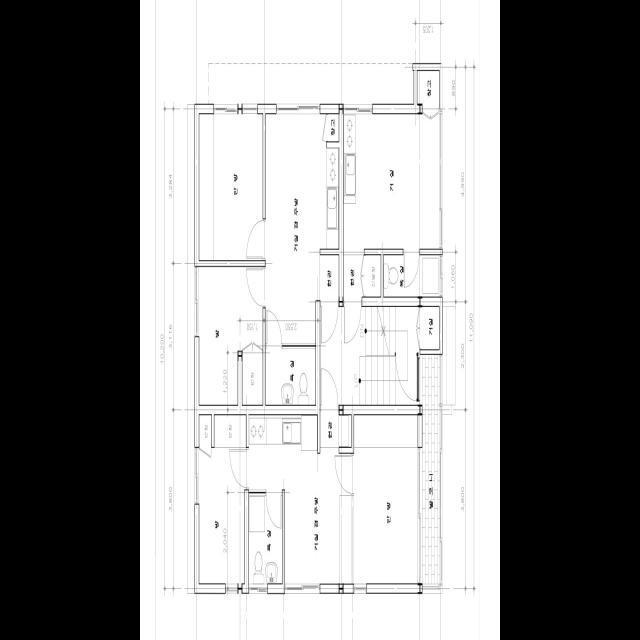background: (140, 0, 500, 640)
space_balconi: (422, 354, 440, 583)
space_bedroom: (354, 414, 418, 583), (199, 113, 263, 260), (199, 266, 263, 404), (199, 414, 246, 583)
space_front: (343, 254, 381, 300), (320, 410, 351, 447), (320, 254, 339, 300)
space_kitchen: (249, 414, 317, 489), (343, 113, 373, 204), (320, 147, 339, 248)
space_living_room: (266, 113, 327, 343), (343, 113, 439, 254), (285, 447, 351, 583)
space_other: (417, 70, 439, 107), (421, 306, 439, 349), (328, 113, 339, 141)
space_staircase: (320, 306, 420, 405)
space_toilet: (249, 495, 282, 583), (266, 348, 316, 404), (384, 254, 440, 296)
